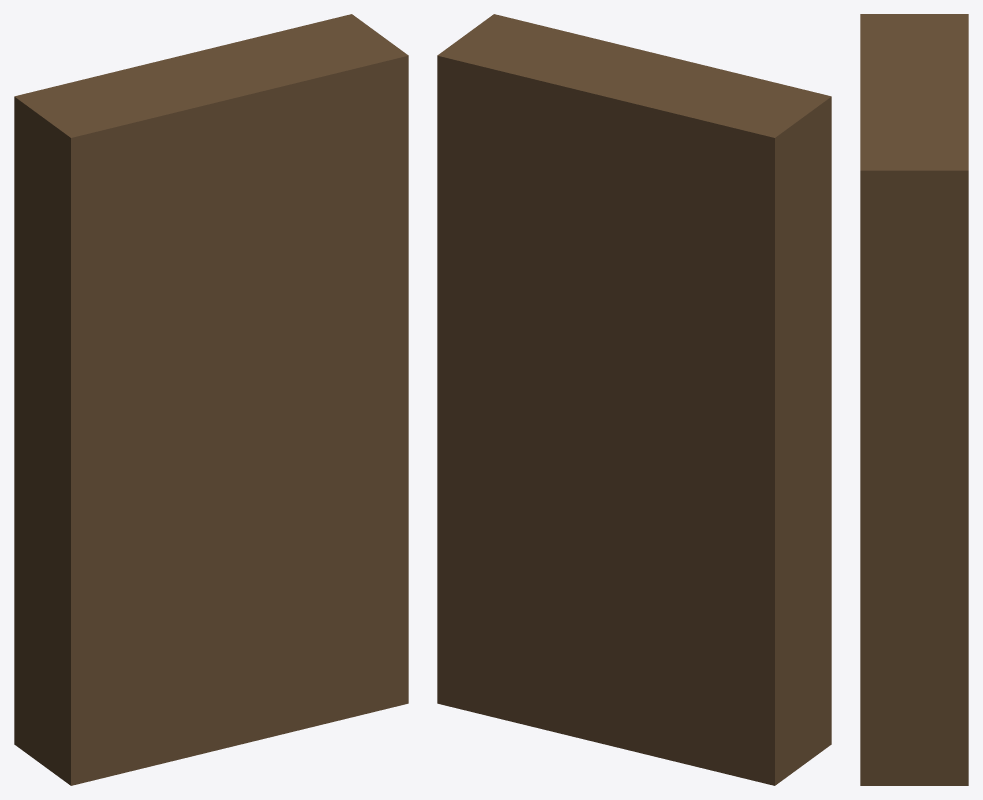
The model's file is bookshelf.glb.
3 views of the same model, side by side, from view 1: azimuth 30°, elevation 25°; view 2: azimuth 150°, elevation 25°; view 3: azimuth 270°, elevation 25° (orthographic). The views are drawn at different scales.
Size of the model in its own units: 1.2 by 2.2 by 0.35.
